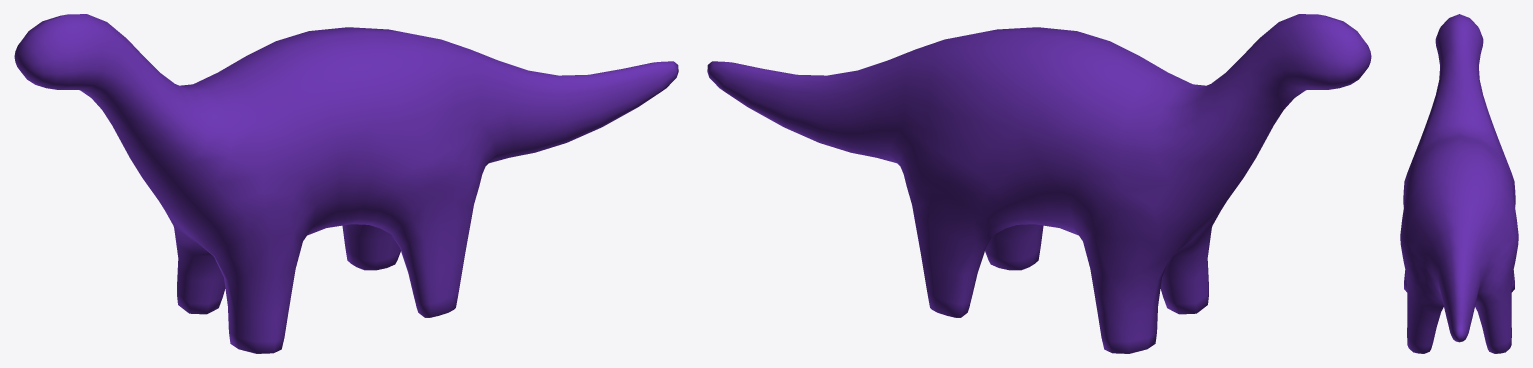
Rendered from diplo.gltf.
3 renders of one model, left to right at view 1: azimuth 30°, elevation 25°; view 2: azimuth 150°, elevation 25°; view 3: azimuth 270°, elevation 25°, orthographic. The views are drawn at different scales.
Parts seen in each view (by area): view 1: Cube; view 2: Cube; view 3: Cube.
Boxes of the visible parts, bbox=[...] form: Cube: bbox=[14, 14, 678, 353]; Cube: bbox=[707, 14, 1371, 353]; Cube: bbox=[1400, 14, 1518, 353].
Size of the model in its own units: 4.16 by 2.14 by 1.01.
